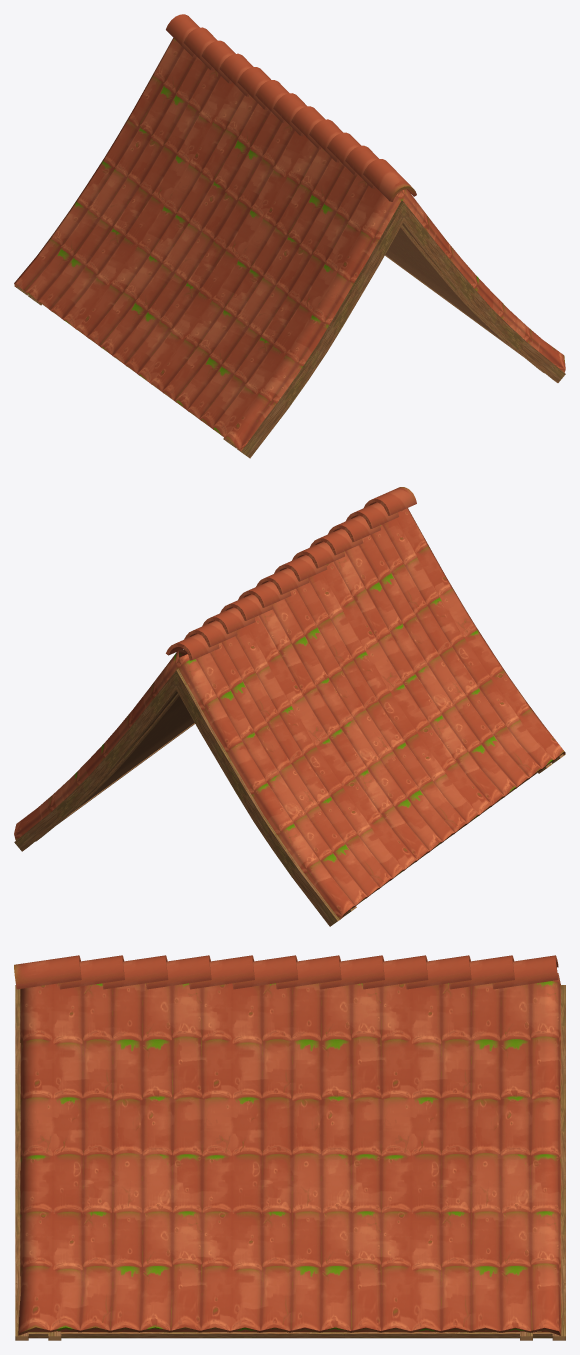
File: Roof_RoundTiles_6x8.glb
3 views of the same model, one above another, from view 1: azimuth 30°, elevation 25°; view 2: azimuth 150°, elevation 25°; view 3: azimuth 270°, elevation 25° (orthographic). The views are drawn at different scales.
Visible parts, largest first — view 1: Roof_RoundTiles_6x8; view 2: Roof_RoundTiles_6x8; view 3: Roof_RoundTiles_6x8.
Boxes of the visible parts, bbox=[...] form: Roof_RoundTiles_6x8: bbox=[14, 14, 565, 458]; Roof_RoundTiles_6x8: bbox=[14, 487, 565, 926]; Roof_RoundTiles_6x8: bbox=[14, 955, 565, 1340].
Size of the model in its own units: 8.25 by 5.67 by 9.68.
2 materials, 2 textured.
